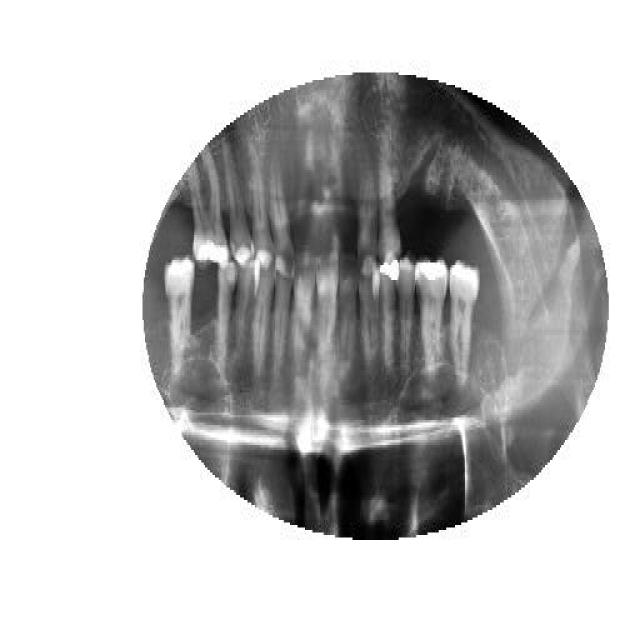Fillings: (188, 145, 230, 273), (415, 255, 447, 377), (380, 257, 399, 385)
